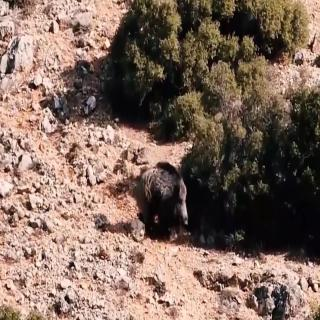Pig: (136, 148, 206, 228)
